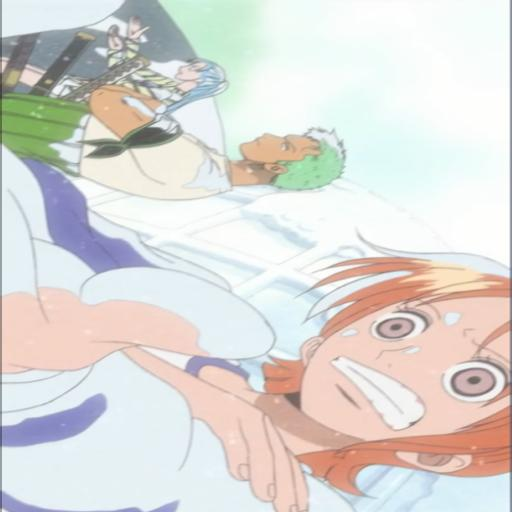Nami: (0, 239, 512, 512)
Zoro: (0, 86, 361, 212)
